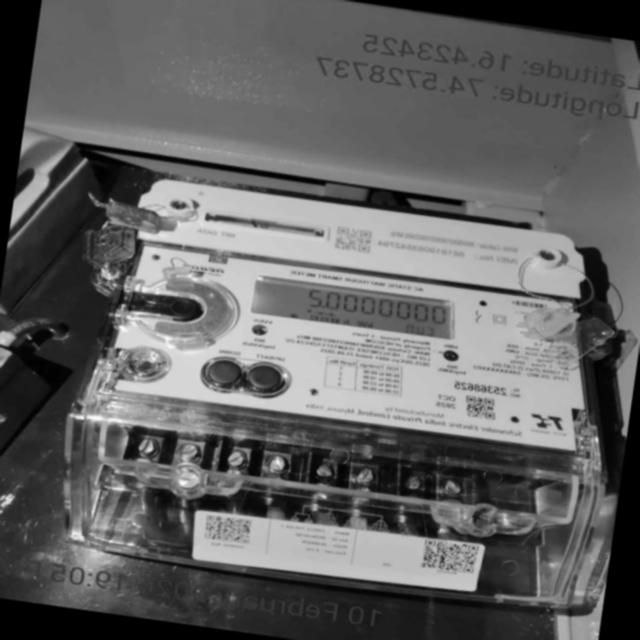meter: (102, 174, 596, 456)
